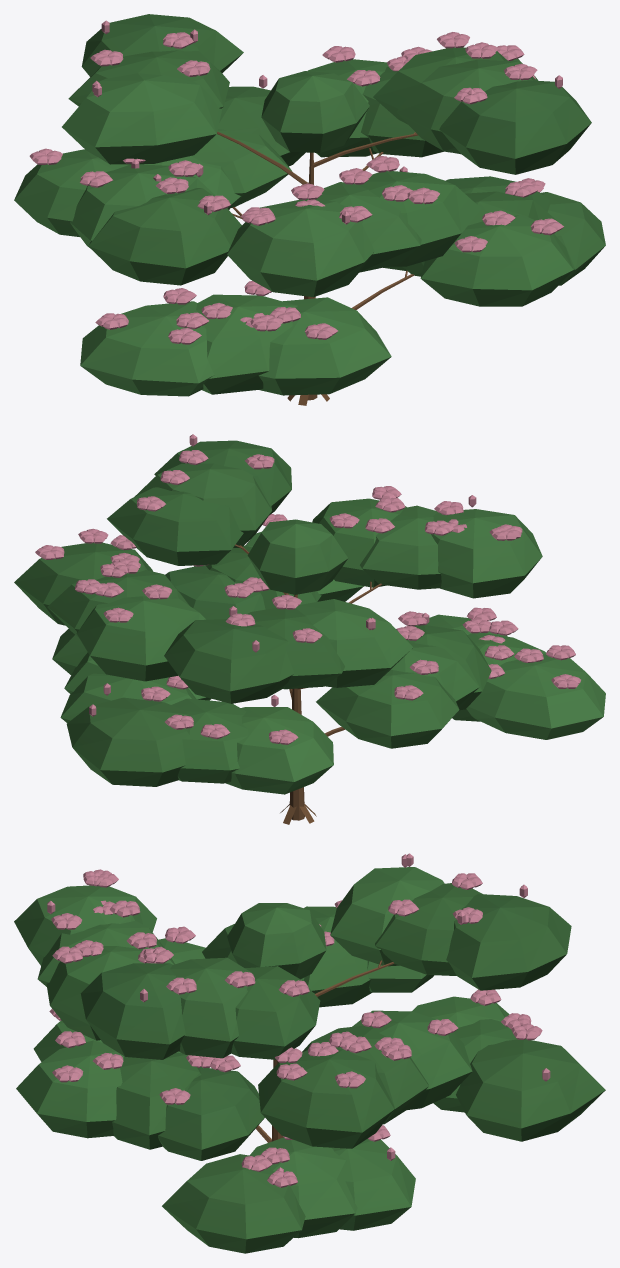
The model's file is l-cherry.glb.
3 views of the same model, one above another, from view 1: azimuth 30°, elevation 25°; view 2: azimuth 150°, elevation 25°; view 3: azimuth 270°, elevation 25° (orthographic). The views are drawn at different scales.
Visible parts, largest first — view 1: LowPolyCanopy, LowPolyBlossoms, LowPolyWood; view 2: LowPolyCanopy, LowPolyBlossoms, LowPolyWood; view 3: LowPolyCanopy, LowPolyBlossoms, LowPolyWood.
Part boxes in pixels (left/top/right/bottom): LowPolyCanopy: left=14, top=14, right=605, bottom=396; LowPolyBlossoms: left=29, top=20, right=563, bottom=344; LowPolyWood: left=217, top=131, right=418, bottom=405; LowPolyCanopy: left=14, top=440, right=605, bottom=794; LowPolyBlossoms: left=35, top=434, right=580, bottom=744; LowPolyWood: left=235, top=544, right=382, bottom=824; LowPolyCanopy: left=14, top=867, right=605, bottom=1253; LowPolyBlossoms: left=47, top=853, right=550, bottom=1187; LowPolyWood: left=255, top=960, right=394, bottom=1142.
Size of the model in its own units: 3.92 by 2.2 by 3.63.
